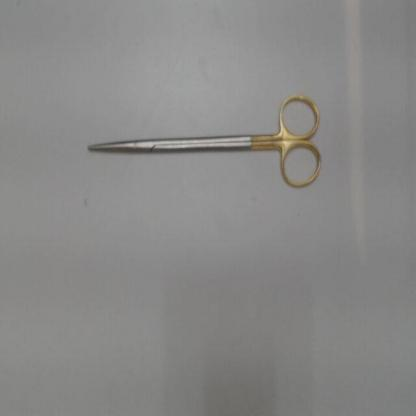7 Metzenbaum Scissors: (89, 92, 324, 190)
